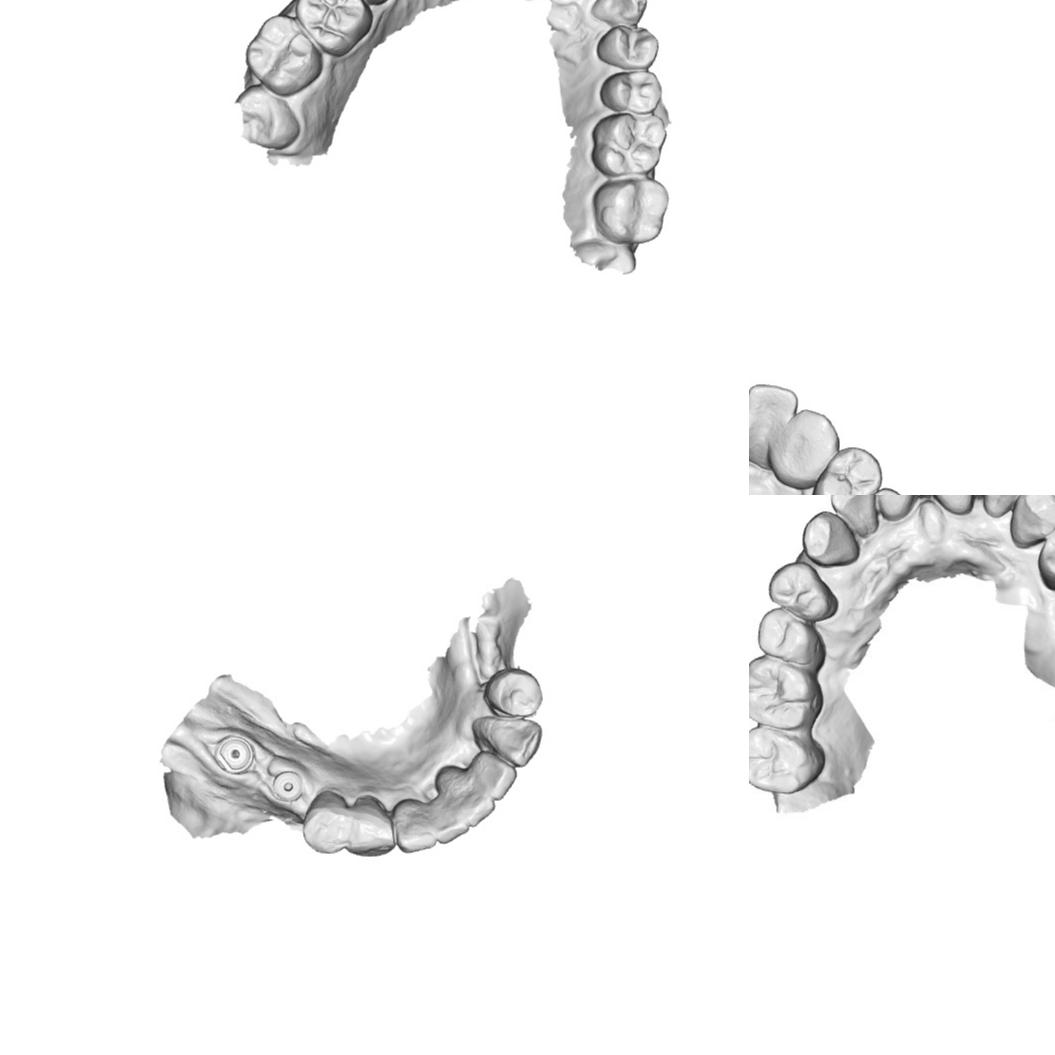canine: (768, 406, 842, 487), (473, 716, 542, 768), (800, 510, 860, 567), (344, 796, 397, 858), (1008, 495, 1055, 548), (589, 0, 649, 26)
implant: (212, 734, 256, 776), (270, 768, 304, 804)
incisor: (749, 382, 800, 446), (392, 796, 437, 853), (468, 750, 517, 800), (828, 495, 880, 539), (430, 793, 470, 845), (862, 495, 922, 523), (457, 790, 495, 830), (914, 495, 976, 518), (979, 495, 1025, 518)
molar: (244, 12, 324, 98), (592, 175, 672, 246), (749, 656, 822, 731), (590, 110, 668, 176), (749, 724, 817, 798), (294, 0, 374, 58), (234, 84, 302, 150)
premolar: (763, 561, 838, 622), (755, 607, 827, 667), (808, 445, 884, 495), (484, 665, 544, 719), (598, 67, 663, 115), (594, 23, 660, 70), (302, 788, 349, 854), (1037, 517, 1055, 590)
